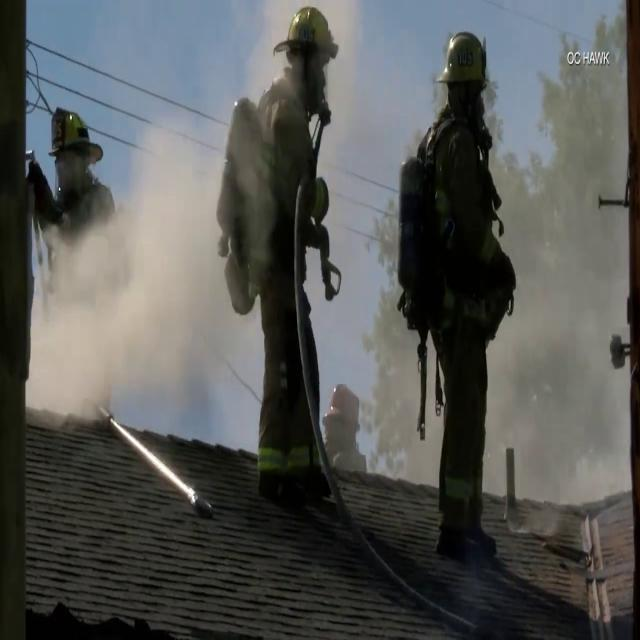Smoke: (461, 96, 637, 524), (31, 80, 248, 422)
